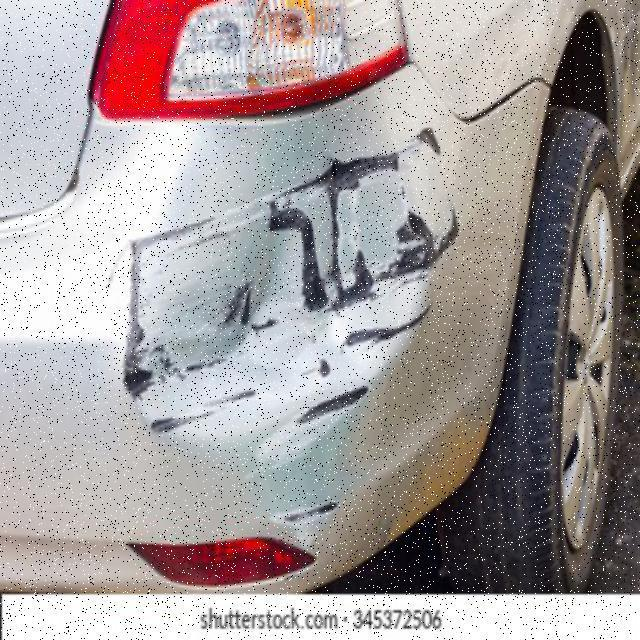rear-bumper-dent: (36, 123, 543, 590)
